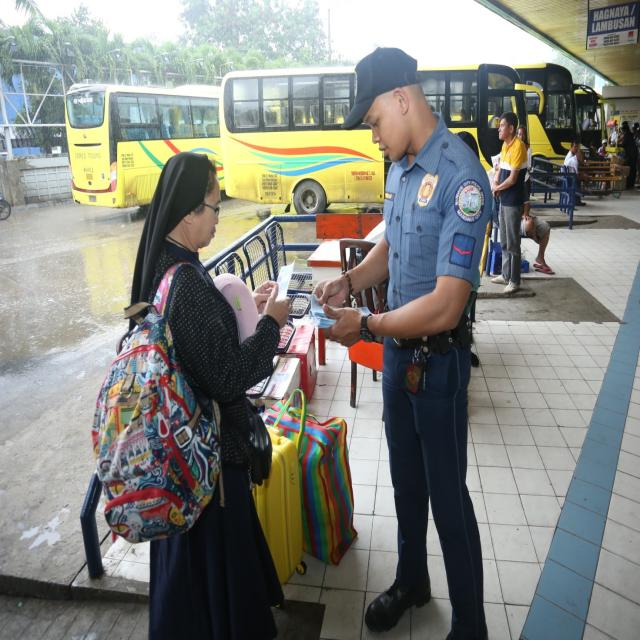body: (305, 41, 502, 640), (81, 145, 308, 640), (490, 110, 529, 294), (239, 105, 475, 126), (596, 120, 640, 198), (520, 184, 556, 276), (562, 149, 591, 207), (515, 124, 533, 201), (562, 140, 578, 165), (580, 108, 596, 130), (488, 110, 502, 130), (548, 120, 558, 130)
